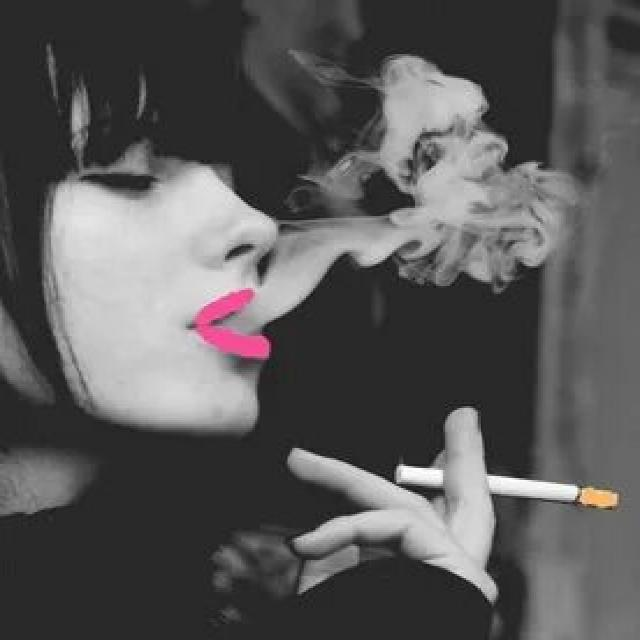smoke: (392, 456, 628, 514)
